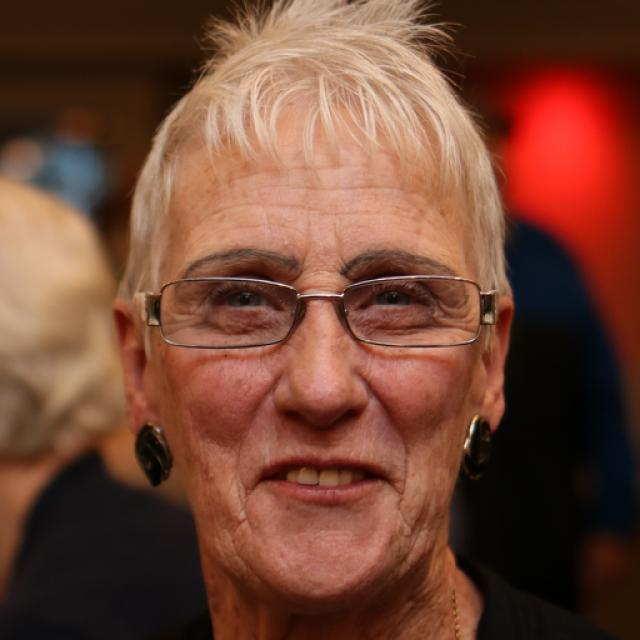Acne: (270, 235, 296, 256)
Wrinkle: (365, 375, 411, 515), (230, 373, 277, 495), (257, 179, 433, 203), (210, 159, 368, 184), (206, 196, 383, 216)
